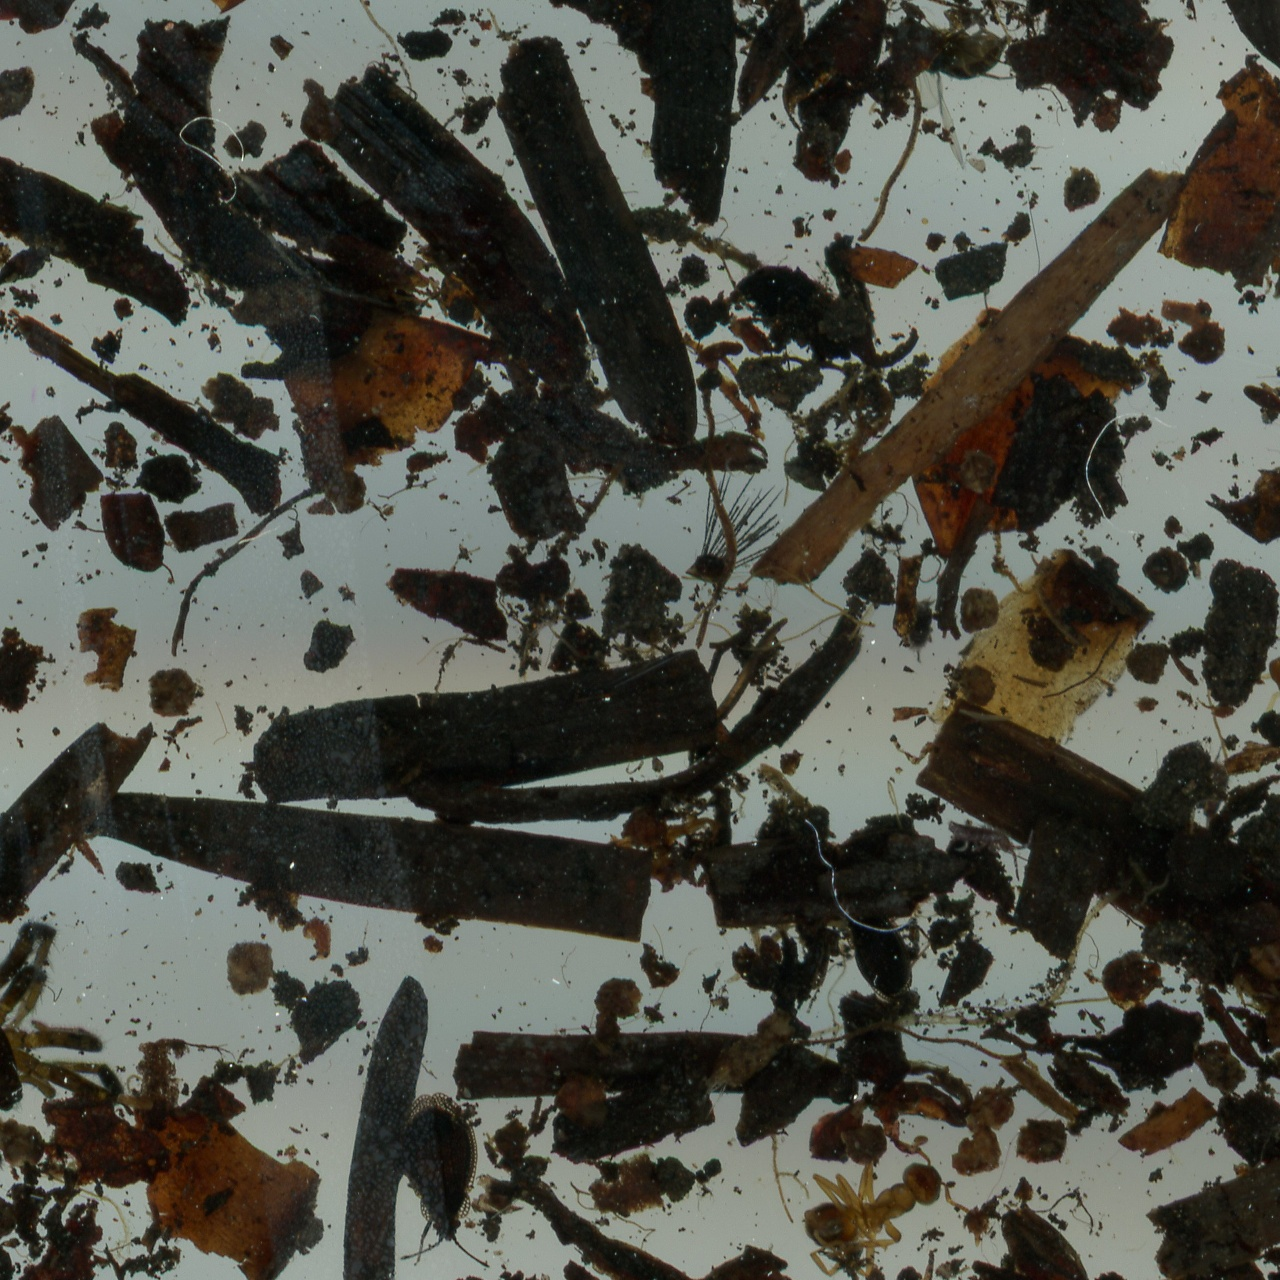arthropod: (0, 912, 122, 1182), (893, 9, 1016, 171), (805, 1156, 944, 1280), (393, 1095, 488, 1266), (849, 911, 921, 1013), (950, 818, 1037, 881), (1269, 650, 1280, 723)
